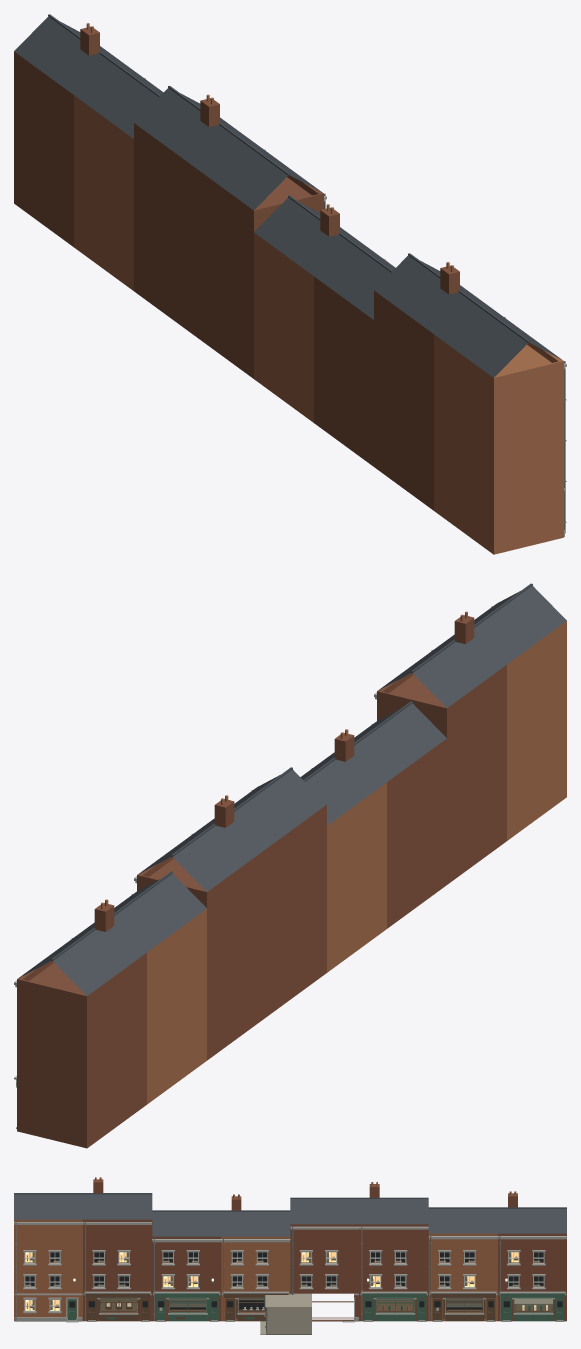
The model's file is exterior-stationers.glb.
The picture shows the model from 3 angles, top to bottom: view 1: azimuth 30°, elevation 25°; view 2: azimuth 150°, elevation 25°; view 3: azimuth 270°, elevation 25°; orthographic projection. The views are drawn at different scales.
Visible parts, largest first — view 1: district_terrace_frontage_stationer; view 2: district_terrace_frontage_stationer; view 3: district_terrace_frontage_stationer, exterior_stationers_room.
Boxes of the visible parts, x1,y1,x2,y2 form: district_terrace_frontage_stationer: (14, 14, 566, 554); district_terrace_frontage_stationer: (14, 583, 566, 1148); district_terrace_frontage_stationer: (14, 1177, 566, 1322); exterior_stationers_room: (260, 1293, 311, 1334).
Bounding box in the file's own units: 8.9 × 17 × 64.
31 materials, 3 textured.
